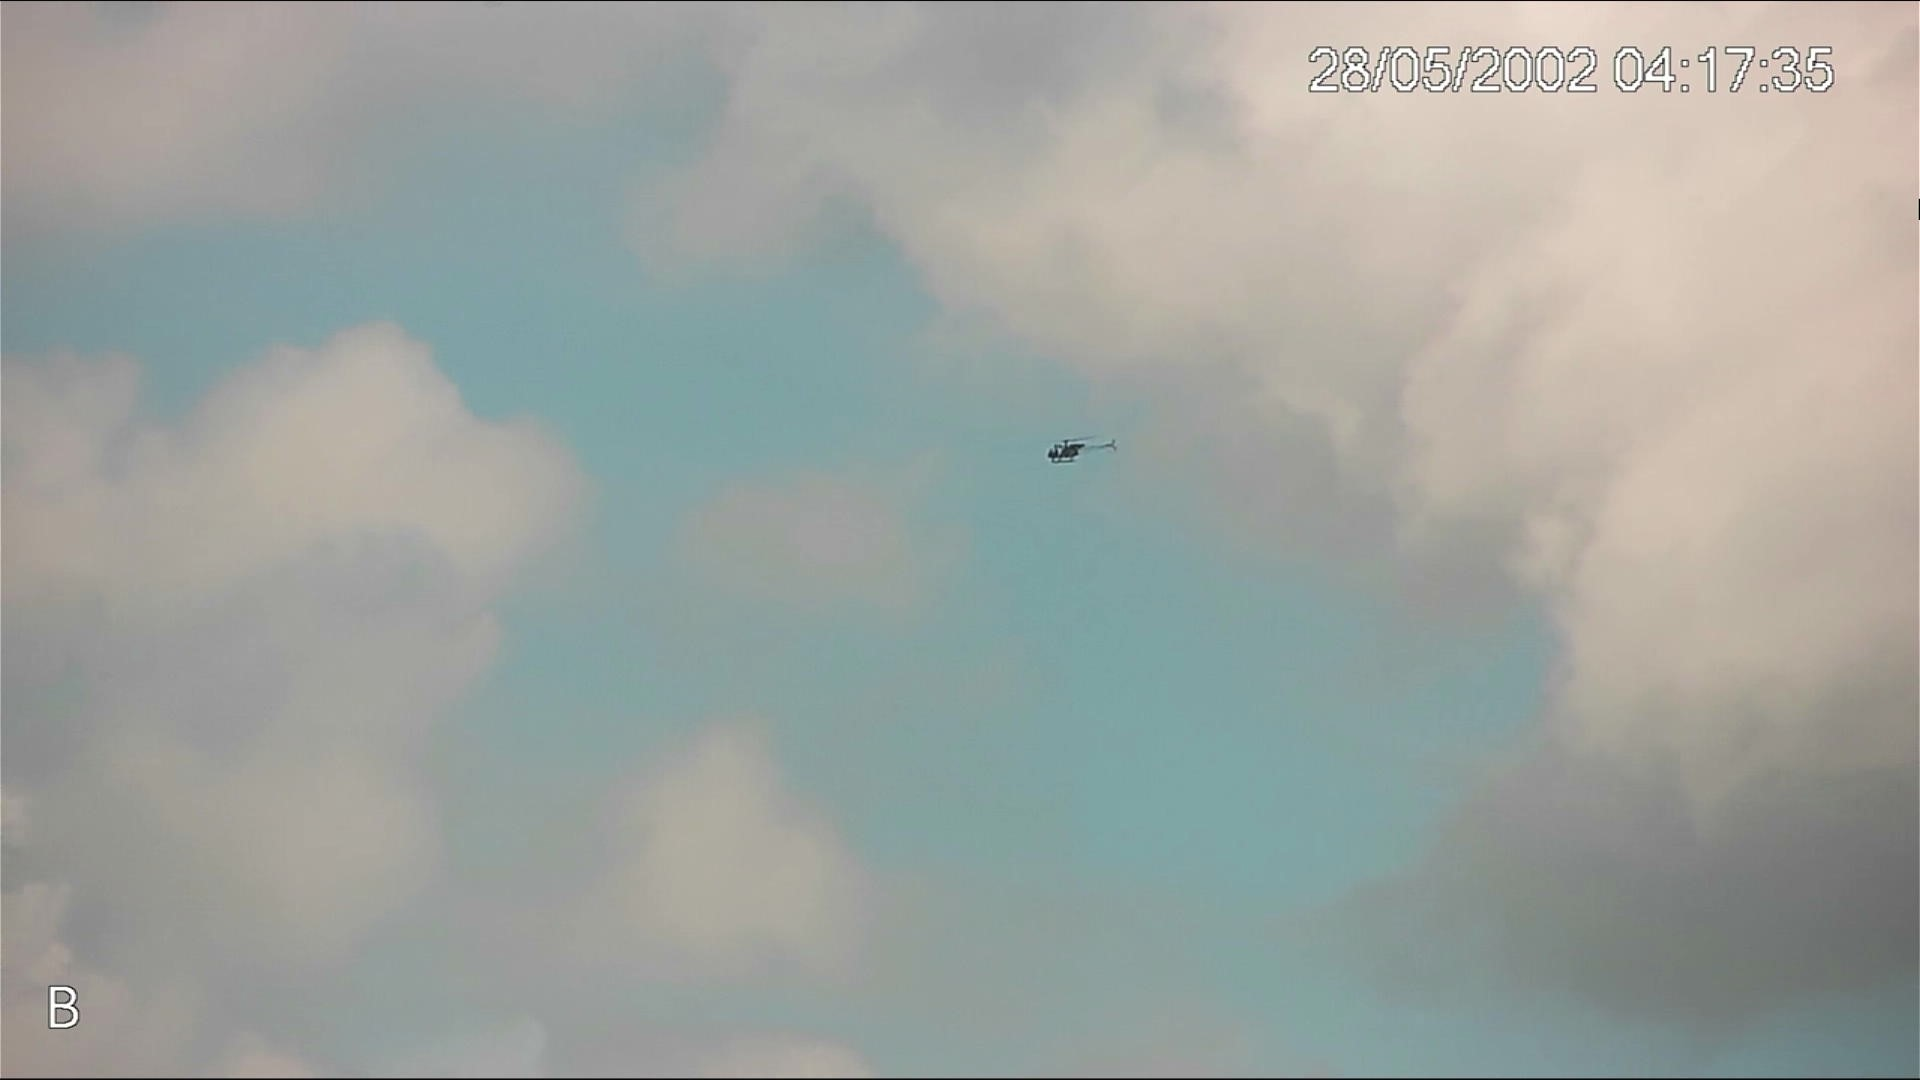SU_30: (1048, 436, 1117, 463)
